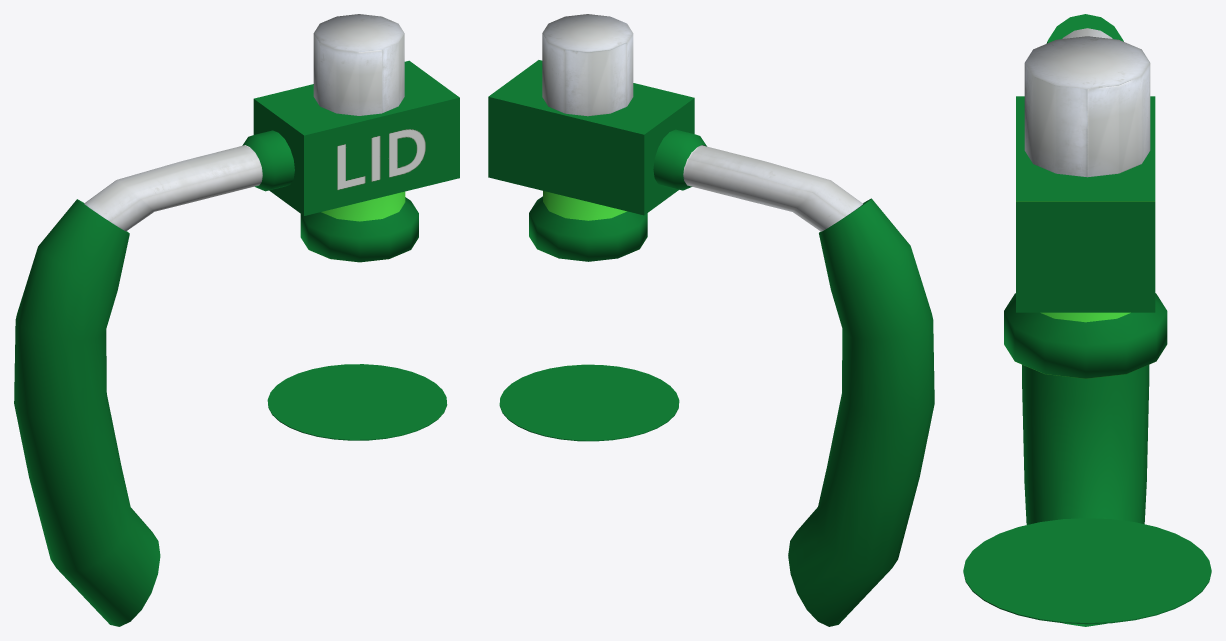
The model's file is LID_2.fbx.
3 views of the same model, side by side, from view 1: azimuth 30°, elevation 25°; view 2: azimuth 150°, elevation 25°; view 3: azimuth 270°, elevation 25° (orthographic). The views are drawn at different scales.
Visible parts, largest first — view 1: Plastic, Hareketli, Cam; view 2: Plastic, Hareketli, Cam; view 3: Plastic, Hareketli.
Part boxes in pixels (x1,y1,x2,y2): Plastic: (14, 60, 459, 626); Hareketli: (300, 14, 418, 262); Cam: (84, 145, 262, 231); Plastic: (488, 60, 934, 626); Hareketli: (529, 14, 647, 261); Cam: (683, 145, 862, 231); Plastic: (963, 14, 1211, 626); Hareketli: (1004, 36, 1167, 378).
Bounding box in the file's own units: 534 × 651 × 200.
